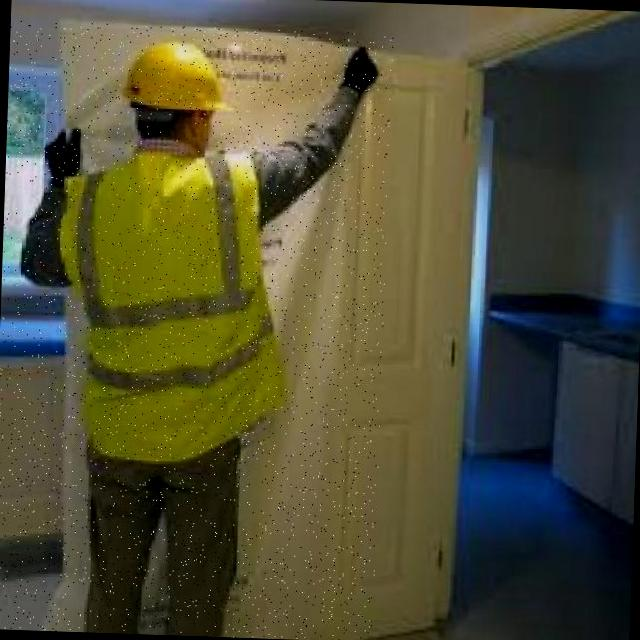gloves: (25, 122, 95, 186), (326, 48, 376, 96)
helmet: (119, 38, 234, 119)
vest: (52, 138, 287, 468)
